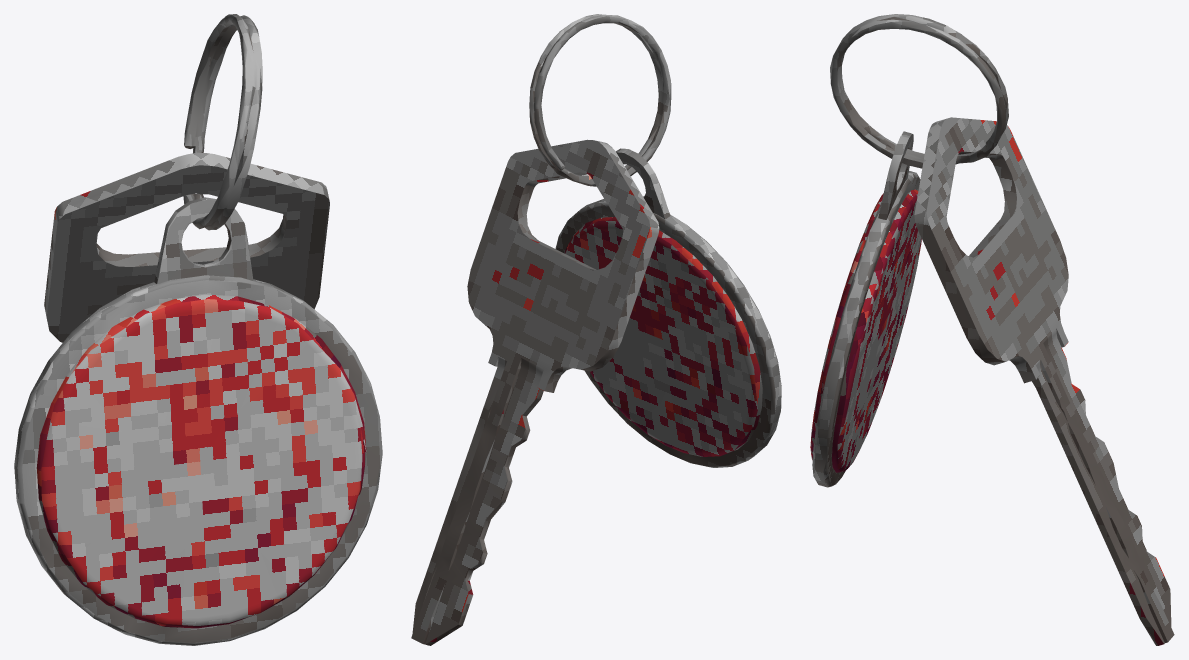
The model's file is keychain_m.glb.
3 views of the same model, side by side, from view 1: azimuth 30°, elevation 25°; view 2: azimuth 150°, elevation 25°; view 3: azimuth 270°, elevation 25° (orthographic). The views are drawn at different scales.
Visible parts, largest first — view 1: mesh; view 2: mesh; view 3: mesh.
Part boxes in pixels (left/top/right/bottom): mesh: left=14, top=14, right=382, bottom=645; mesh: left=411, top=14, right=781, bottom=645; mesh: left=810, top=14, right=1174, bottom=645.
Size of the model in its own units: 0.0413 by 0.08 by 0.044.
Materials: 1 (1 with a texture image).
